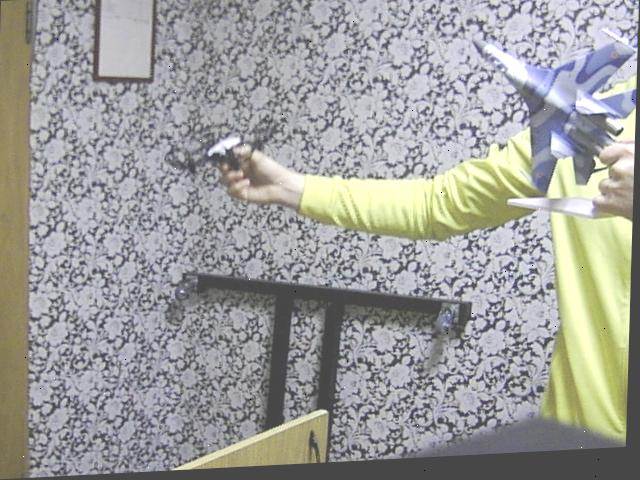drone: (154, 99, 293, 190)
